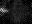person: (0, 7, 8, 15)
